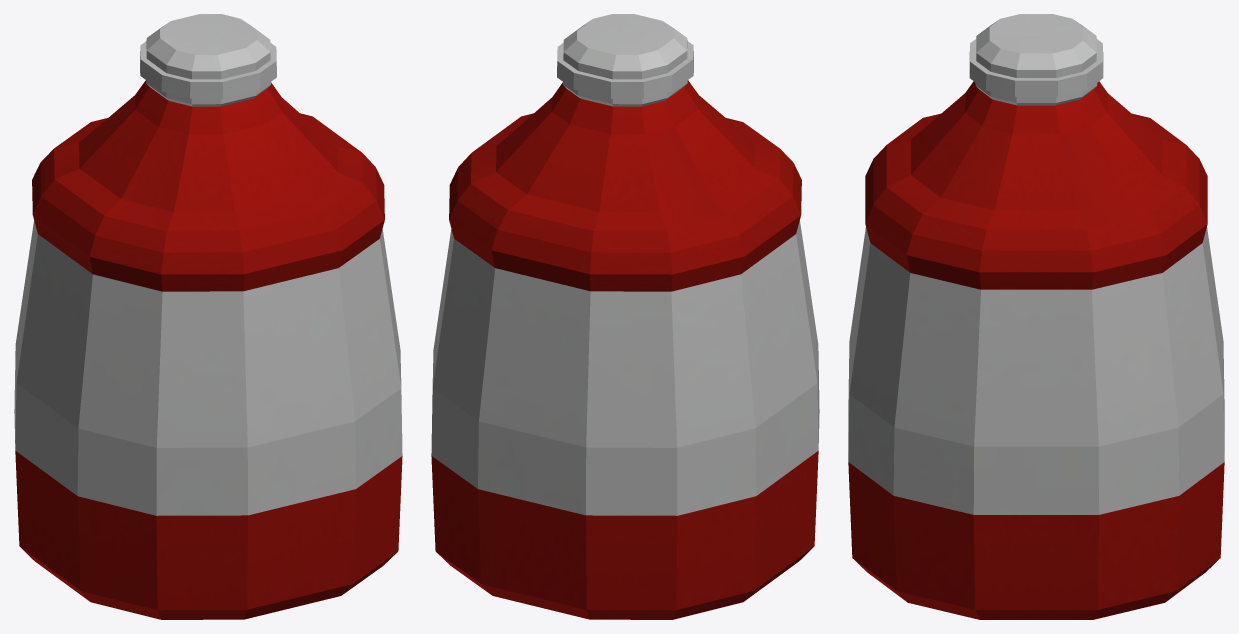
File: small_bottle_1.glb
3 views of the same model, side by side, from view 1: azimuth 30°, elevation 25°; view 2: azimuth 150°, elevation 25°; view 3: azimuth 270°, elevation 25° (orthographic).
Visible parts, largest first — view 1: small_bottle_1; view 2: small_bottle_1; view 3: small_bottle_1.
Part boxes in pixels (bbox=[...]): small_bottle_1: bbox=[14, 14, 402, 619]; small_bottle_1: bbox=[431, 14, 819, 619]; small_bottle_1: bbox=[848, 14, 1224, 619].
Bounding box in the file's own units: 0.1057 × 0.1595 × 0.1057.
1 material, 1 textured.
